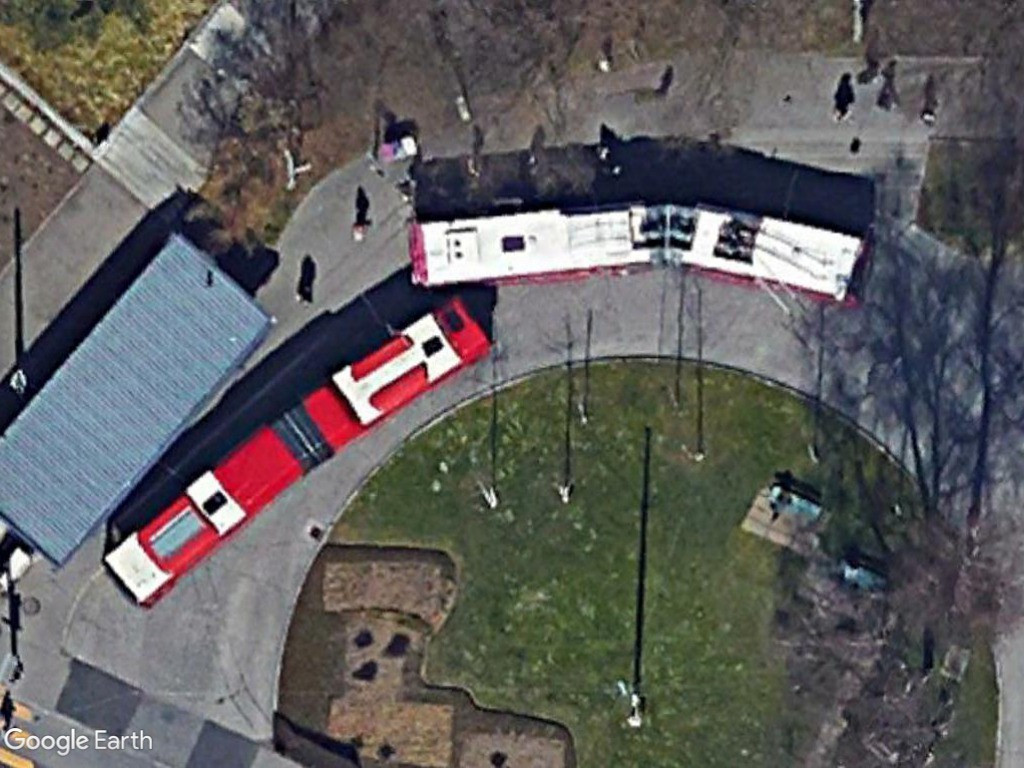bus: (97, 413, 313, 613), (295, 296, 498, 457), (400, 199, 661, 301), (663, 194, 877, 316)
